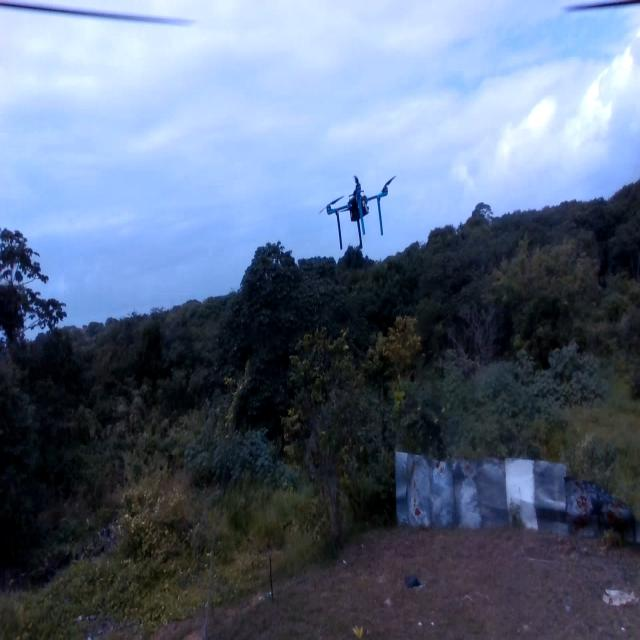-uav-: (315, 160, 400, 262)
